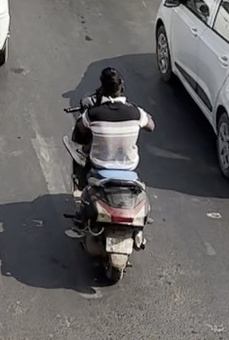BikeWithRider: (56, 61, 160, 285)
NoHelmet: (92, 62, 131, 102)
